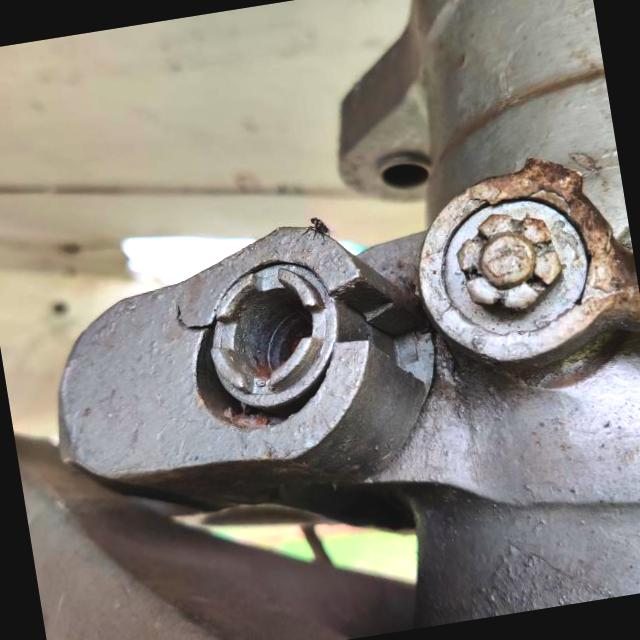crack: (163, 292, 216, 344)
